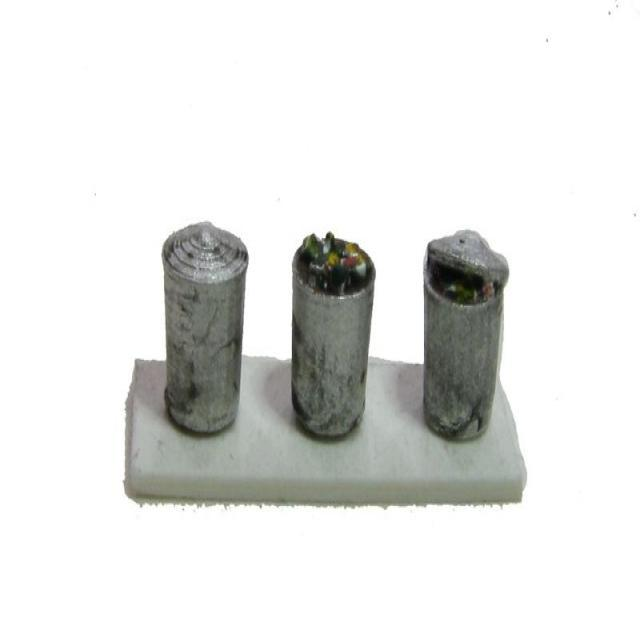bin: (280, 219, 383, 453), (146, 215, 249, 438), (415, 212, 511, 446)
